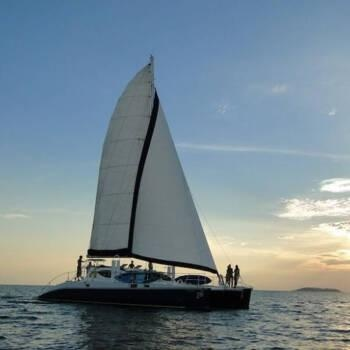fanchuan: (37, 45, 250, 309)
